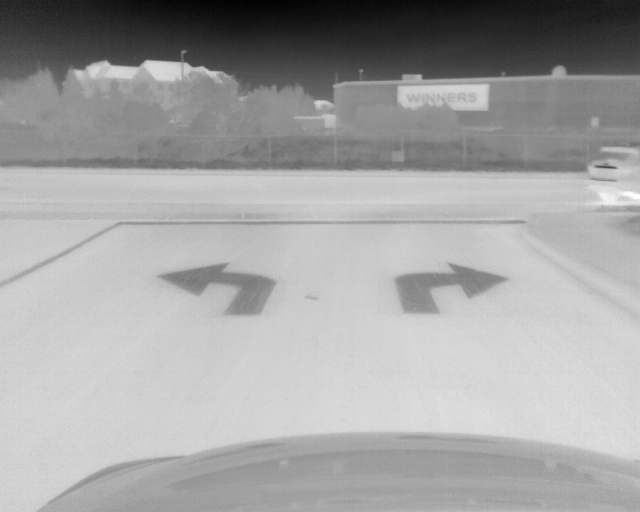car: (586, 144, 640, 201)
